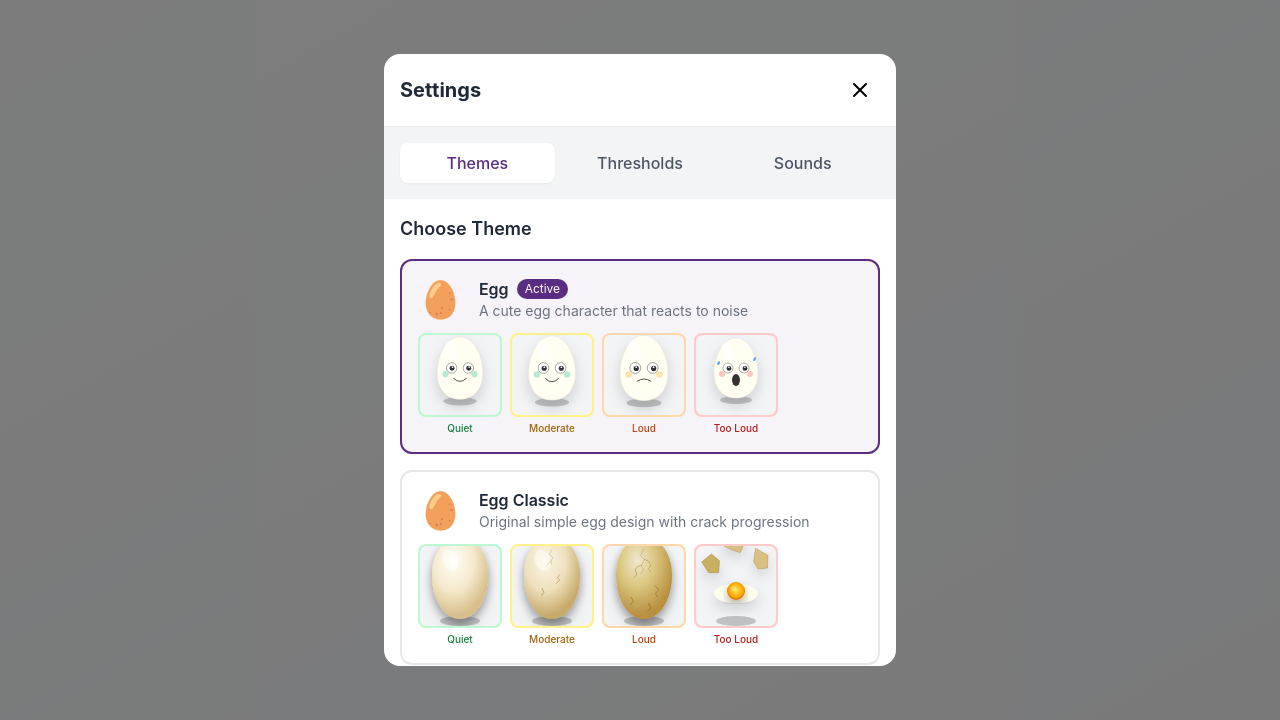
Scenario: what the threshold descriptions promise › describes all four bounds in terms that now hold
Click the button "Thresholds".
click(640, 163)  # box [563, 143, 717, 183]
(page scrolled)
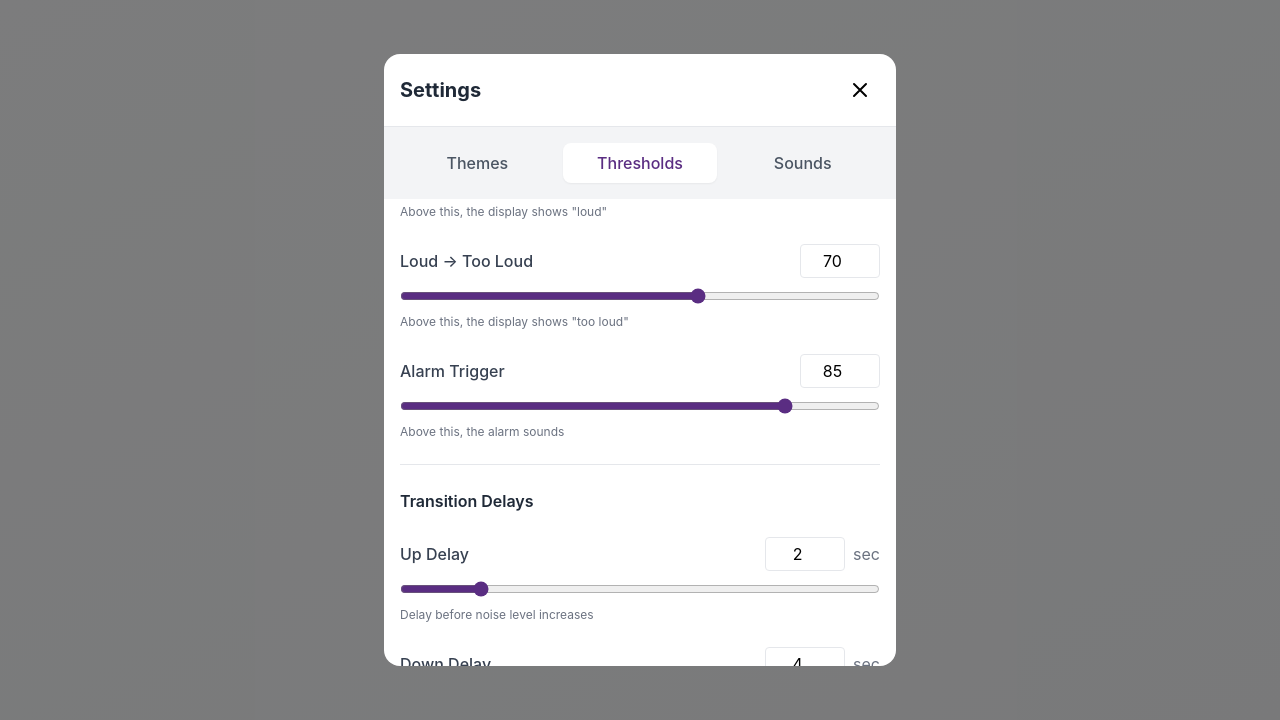
Expected: the text "Above this, the display shows \"loud\"" is shown, [400, 204, 607, 219]
Expected: the text "Above this, the display shows \"too loud\"" is shown, [400, 314, 629, 329]
Expected: the text "Above this, the alarm sounds" is shown, [400, 424, 564, 439]
